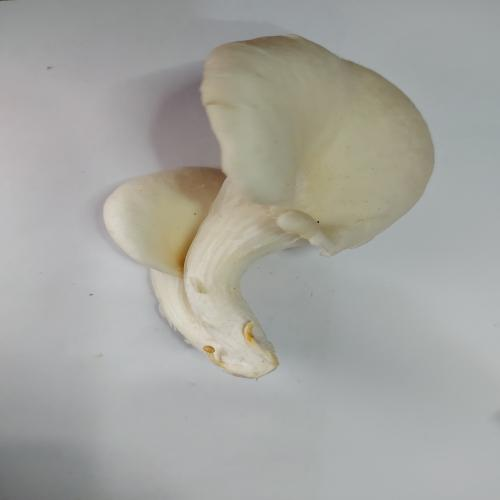Oyster Mushroom: (102, 33, 436, 380)
